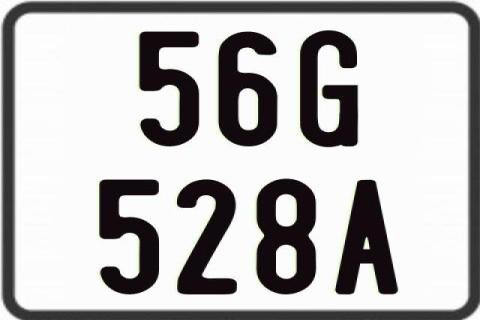0: (97, 178, 161, 296), (174, 180, 239, 296), (256, 179, 321, 295), (215, 32, 274, 150), (140, 29, 200, 145)
A: (335, 179, 403, 296)
G: (300, 29, 362, 149)
